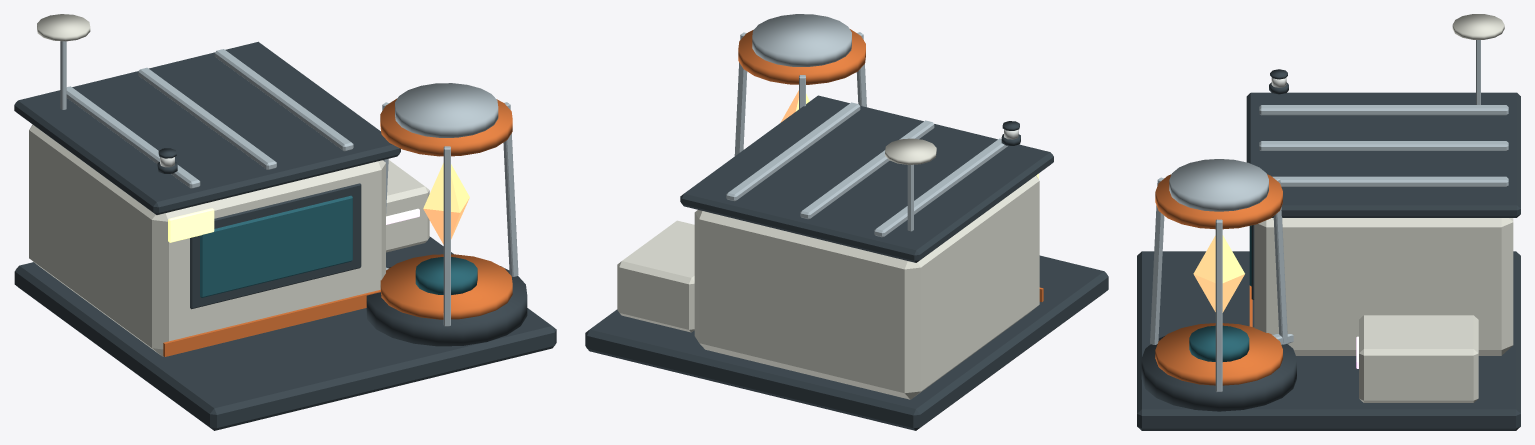
The model's file is xenolab.glb.
The picture shows the model from 3 angles, left to right: view 1: azimuth 30°, elevation 25°; view 2: azimuth 150°, elevation 25°; view 3: azimuth 270°, elevation 25°; orthographic projection. The views are drawn at different scales.
Visible parts, largest first — view 1: xenolab_dark, xenolab_ivory, xenolab_metal, xenolab_glass, xenolab_orange, xenolab_ember, xenolab_light; view 2: xenolab_ivory, xenolab_dark, xenolab_metal, xenolab_orange; view 3: xenolab_dark, xenolab_ivory, xenolab_metal, xenolab_orange, xenolab_ember, xenolab_glass.
Boxes of the visible parts, box(x1,y1,x2,y2) form: xenolab_dark: box(14, 41, 556, 430); xenolab_ivory: box(29, 14, 429, 356); xenolab_metal: box(60, 41, 518, 326); xenolab_glass: box(200, 195, 477, 297); xenolab_orange: box(163, 98, 512, 356); xenolab_ember: box(423, 163, 469, 244); xenolab_light: box(168, 208, 214, 242); xenolab_ivory: box(617, 138, 1039, 399); xenolab_dark: box(585, 95, 1108, 430); xenolab_metal: box(726, 14, 1007, 237); xenolab_orange: box(738, 29, 1043, 301); xenolab_dark: box(1137, 69, 1520, 430); xenolab_ivory: box(1254, 14, 1513, 402); xenolab_metal: box(1150, 40, 1508, 391); xenolab_orange: box(1155, 174, 1282, 385); xenolab_ember: box(1193, 235, 1244, 312); xenolab_glass: box(1189, 225, 1251, 361).
Size of the model in its own units: 3.86 by 2.88 by 3.85.
